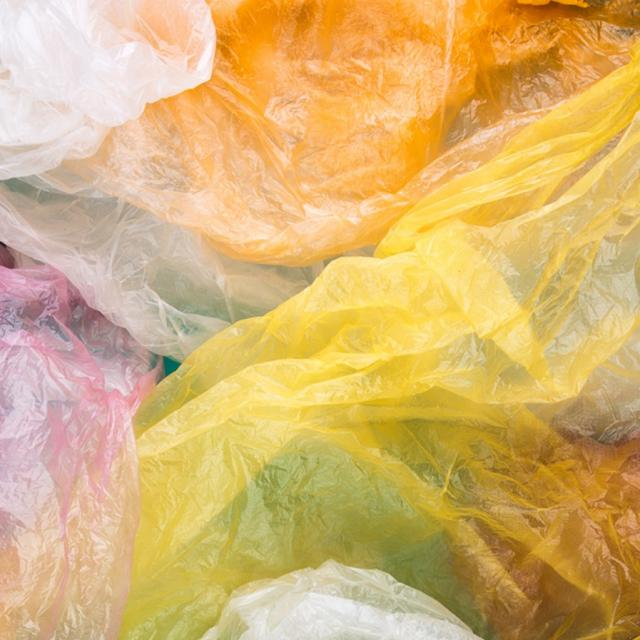Single-layer Plastic: (121, 44, 640, 640), (70, 0, 640, 265), (0, 166, 322, 360), (0, 265, 161, 639), (0, 0, 215, 179), (200, 560, 482, 639)
